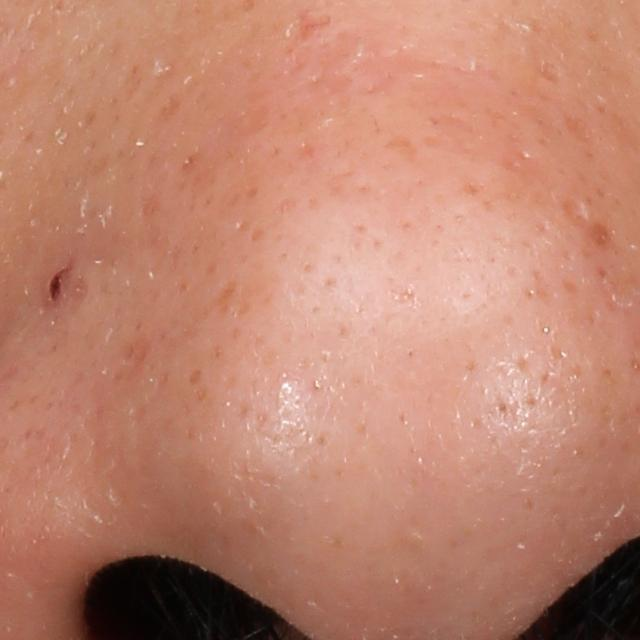atrophic_scar: (292, 9, 337, 48), (557, 193, 590, 229)
papule: (38, 256, 87, 311)
